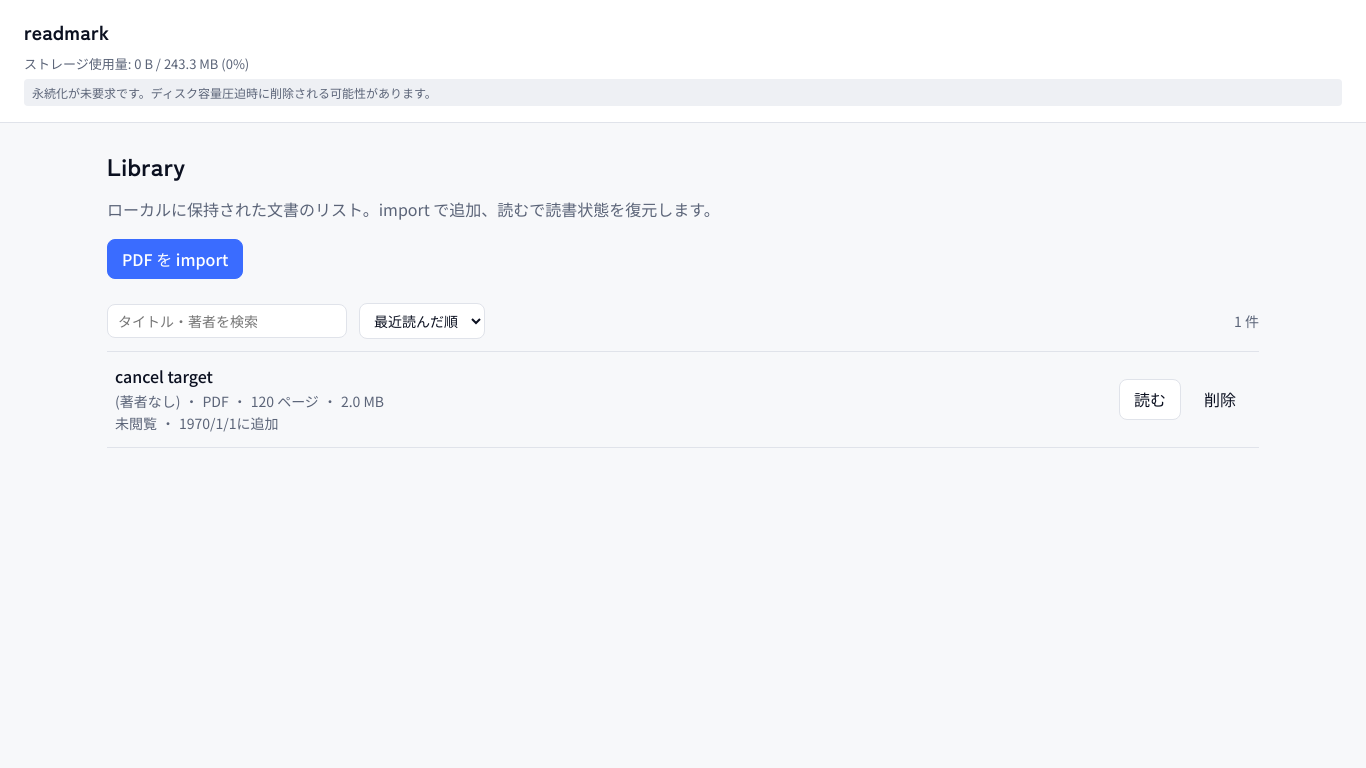
Test: LibraryScreen › does not write anything when the delete confirmation is cancelled
Click the button with test id "rm-library-row-delete".
click(1220, 400)  # box [1189,379,1251,420]
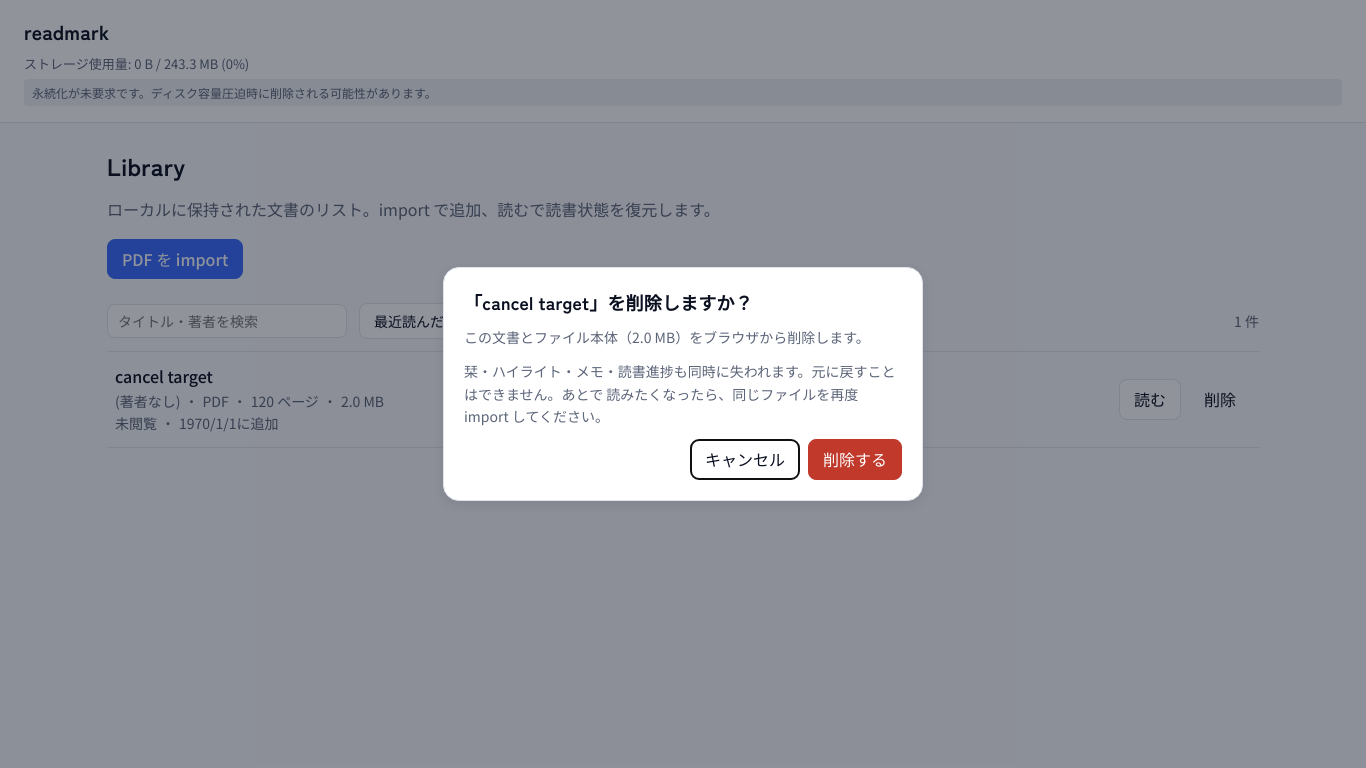
Check: the dialog shows "cancel target", box [464,289,753,315]
Check: the dialog shows "栞・ハイライト・メモ・読書進捗も同時に失われます", box [464,361,896,426]
Click the button with test id "rm-dialog-cancel".
click(745, 460)  # box [690,440,800,480]
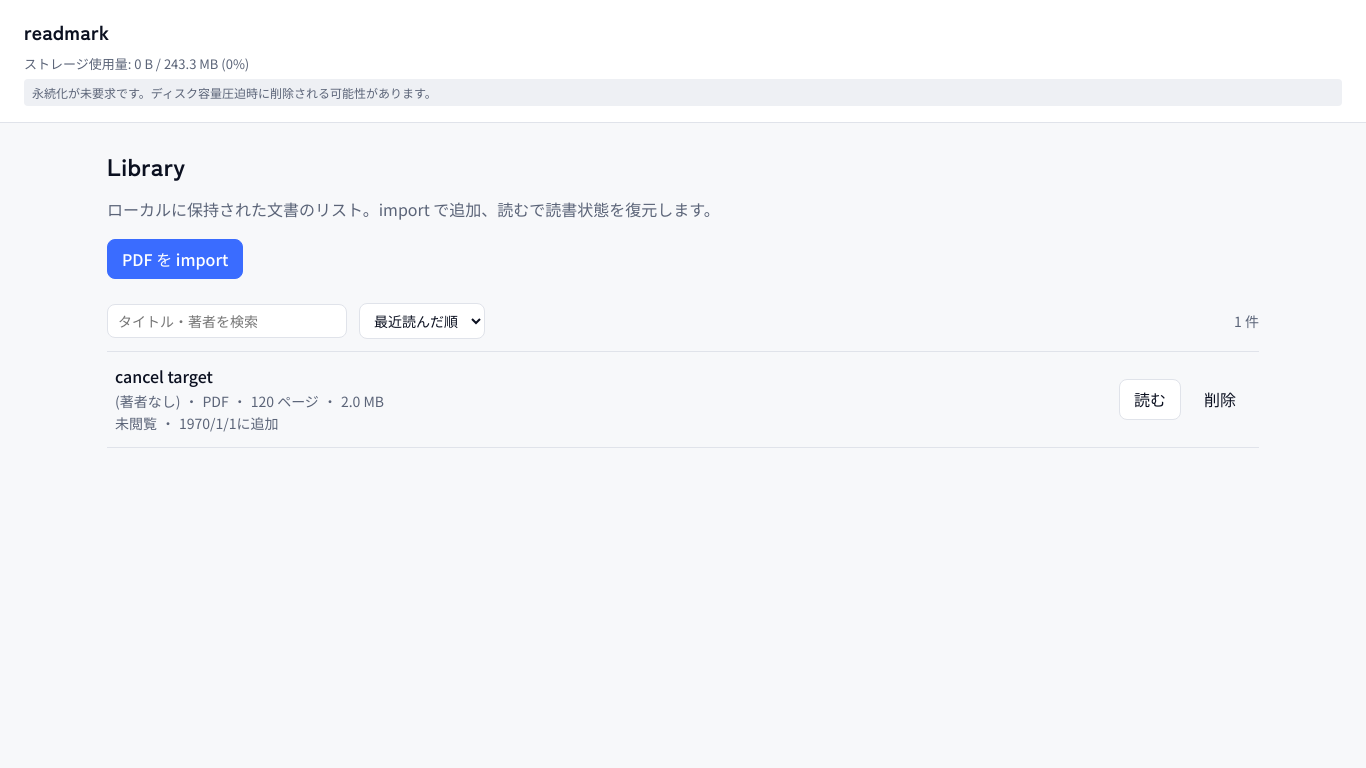
Check: the dialog is gone
